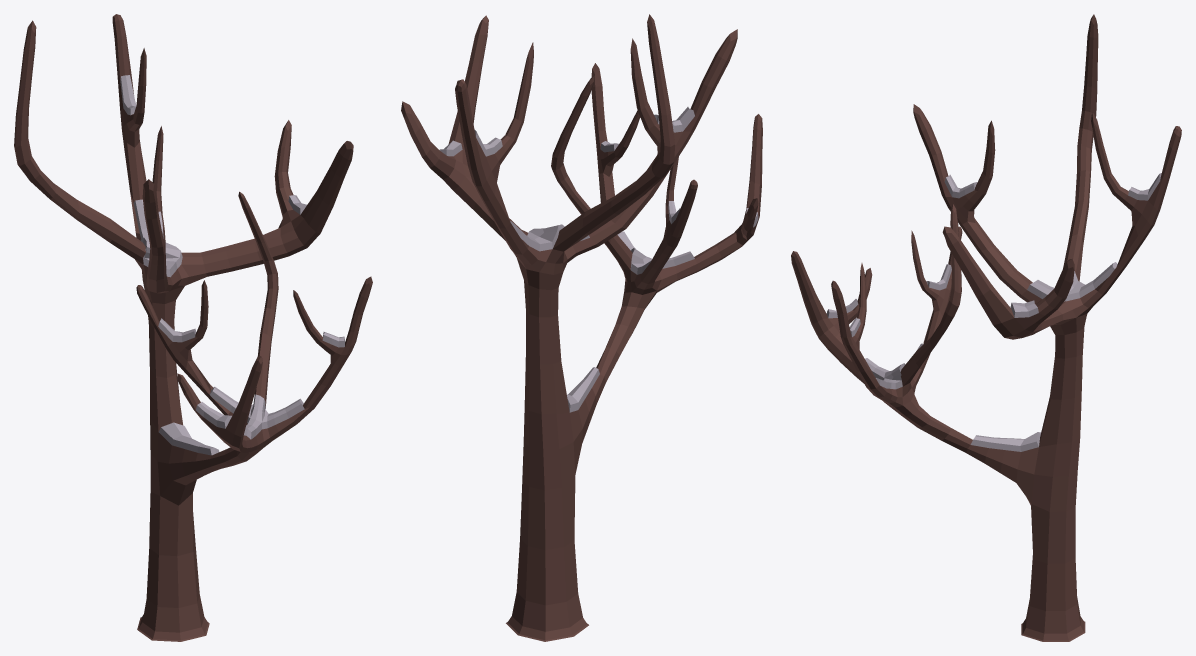
File: commontree_dead_snow2.glb
3 renders of one model, left to right at view 1: azimuth 30°, elevation 25°; view 2: azimuth 150°, elevation 25°; view 3: azimuth 270°, elevation 25°, orthographic. The views are drawn at different scales.
Parts seen in each view (by area): view 1: CommonTree_Dead_Snow_2; view 2: CommonTree_Dead_Snow_2; view 3: CommonTree_Dead_Snow_2.
Boxes of the visible parts, <box> form: CommonTree_Dead_Snow_2: <box>14,14,372,641</box>; CommonTree_Dead_Snow_2: <box>401,14,762,641</box>; CommonTree_Dead_Snow_2: <box>791,14,1181,641</box>.
Bounding box in the file's own units: 1.33 × 2.96 × 1.86.
